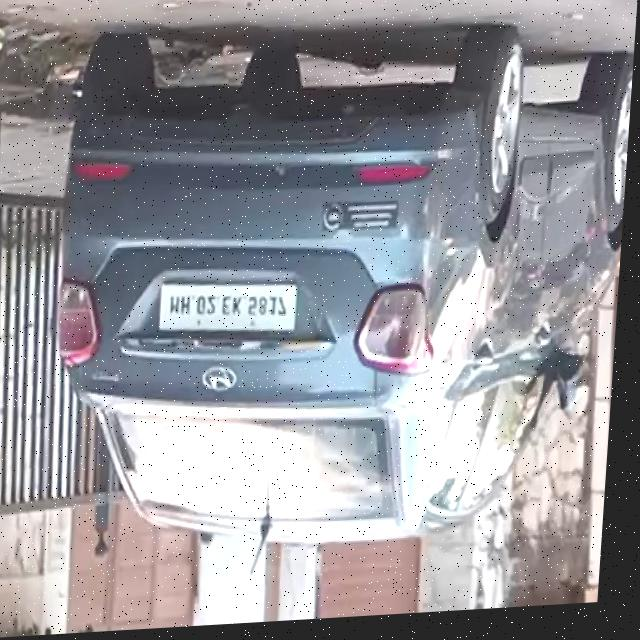plate: (160, 279, 303, 345)
